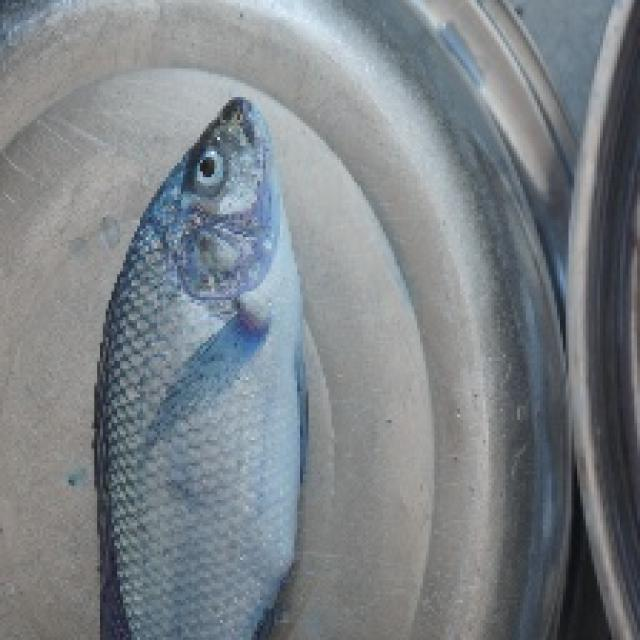Fresh: (72, 90, 368, 628)
